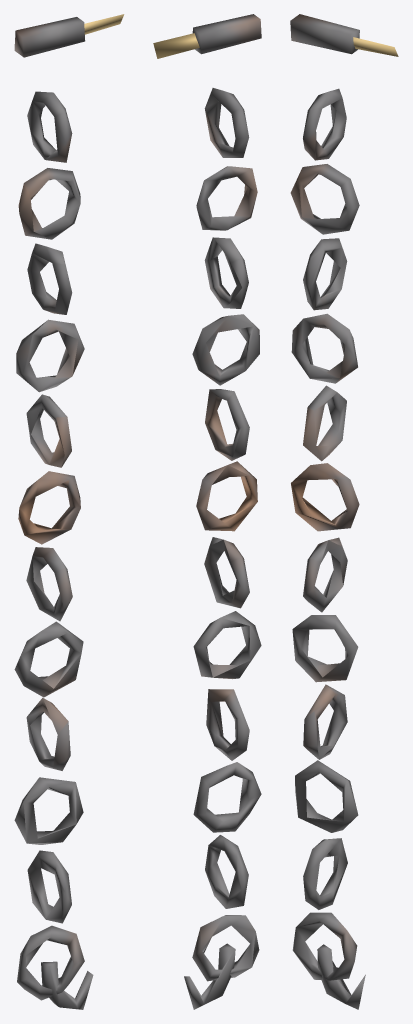
File: chain_lod1.gltf
The picture shows the model from 3 angles, left to right: view 1: azimuth 30°, elevation 25°; view 2: azimuth 210°, elevation 25°; view 3: azimuth 330°, elevation 25°; orthographic projection.
Parts seen in each view (by area): view 1: chain_LOD1; view 2: chain_LOD1; view 3: chain_LOD1.
Part boxes in pixels (x1,y1,x2,y2): chain_LOD1: (14,14,124,1009); chain_LOD1: (153,14,261,1009); chain_LOD1: (290,14,398,1009).
Size of the model in its own units: 0.2914 by 2.61 by 0.1827.
Materials: 1 (1 with a texture image).
